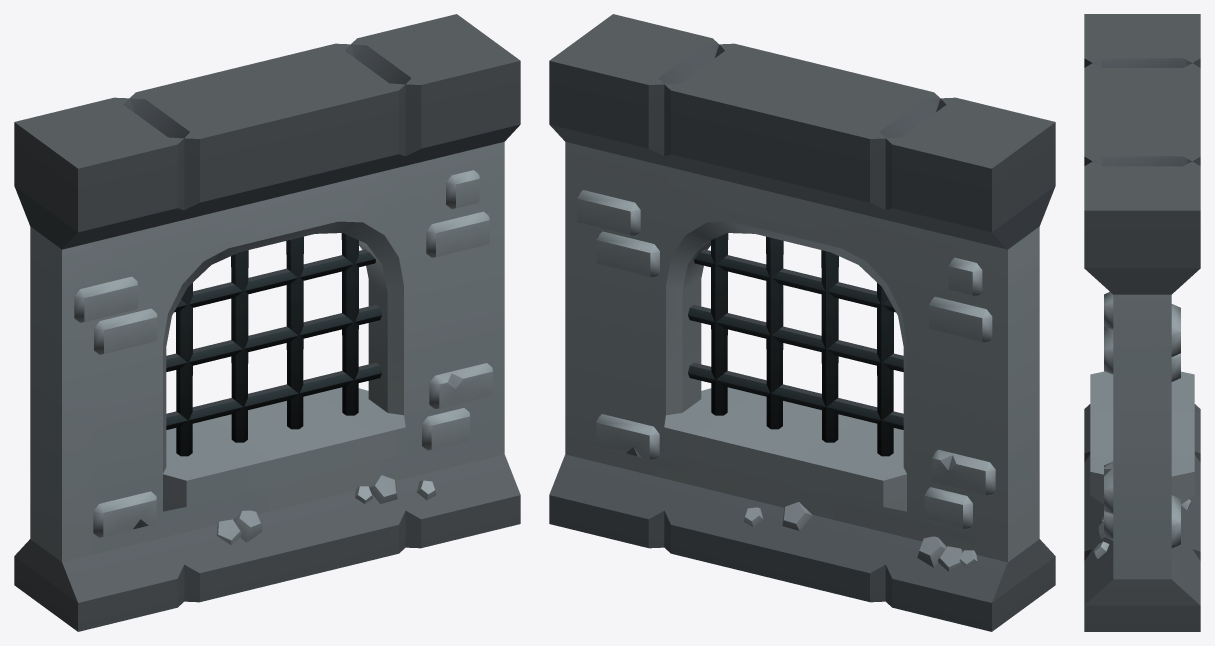
The model's file is kaykit-dungeon-remastered-wall-archedwindow-gated-gltf.glb.
The picture shows the model from 3 angles, left to right: view 1: azimuth 30°, elevation 25°; view 2: azimuth 150°, elevation 25°; view 3: azimuth 270°, elevation 25°; orthographic projection. The views are drawn at different scales.
Parts seen in each view (by area): view 1: wall_archedwindow_gated; view 2: wall_archedwindow_gated; view 3: wall_archedwindow_gated.
Part boxes in pixels (x1,y1,x2,y2): wall_archedwindow_gated: [14, 14, 520, 631]; wall_archedwindow_gated: [549, 14, 1055, 631]; wall_archedwindow_gated: [1084, 14, 1200, 631].
Bounding box in the file's own units: 4 × 4 × 1.
1 material, 1 textured.
